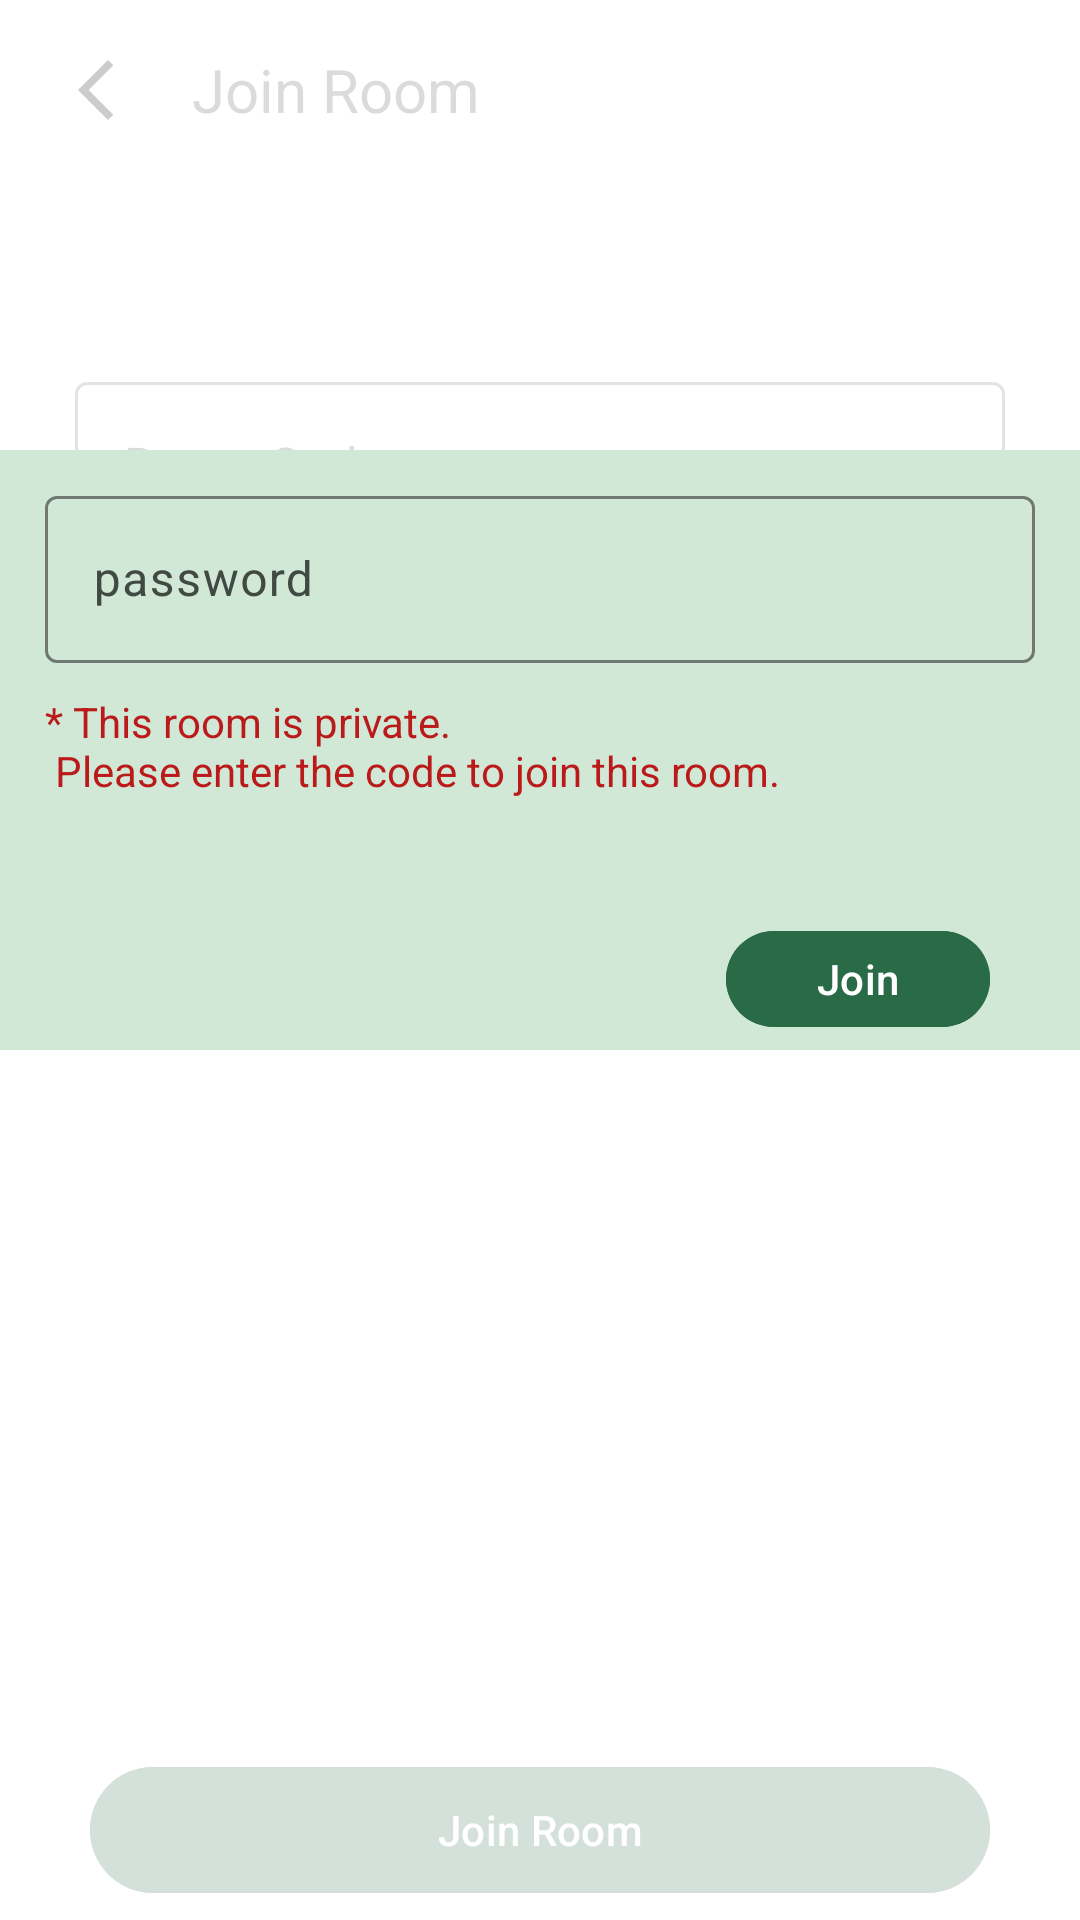

Icons on this 1080px×1920px Android screen, each with the point to tap as (x=x, y=y):
back: (x=95, y=90)
